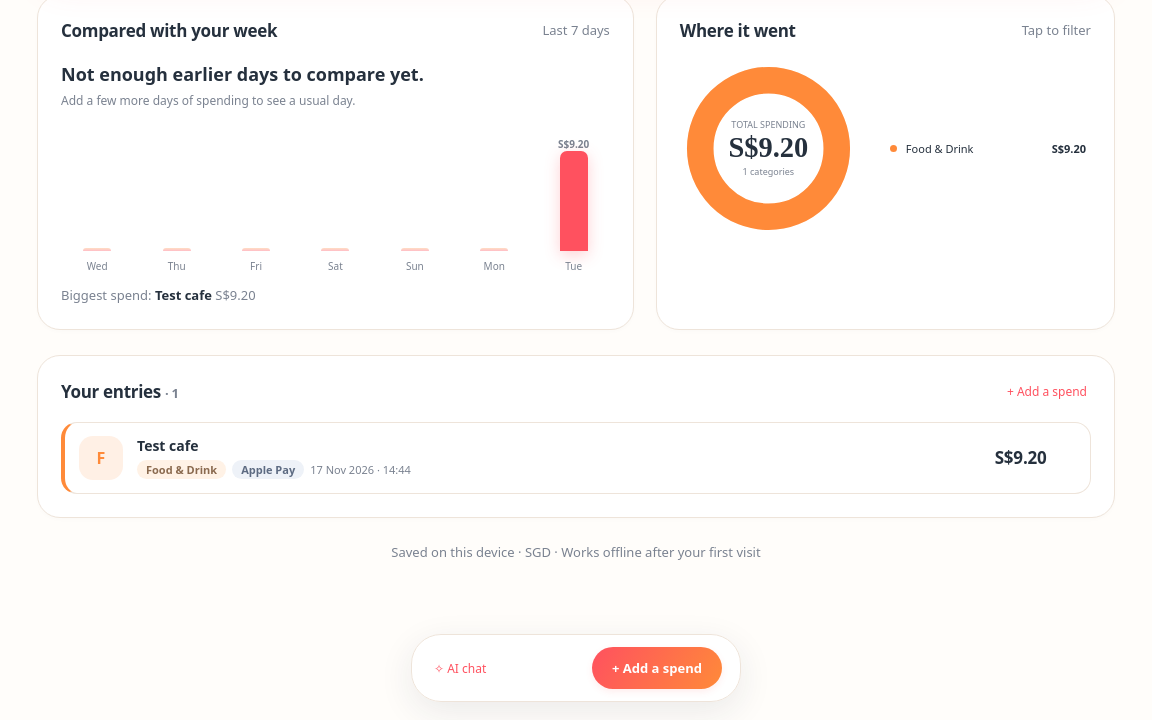
Test: manual tracker › keeps the form open when storage fails
The width and height of the screenshot is (1152, 720).
(page scrolled)
Click the button with aria-label "Edit Test cafe": (101, 458) left=61, top=422, right=1091, bottom=494
(page scrolled)
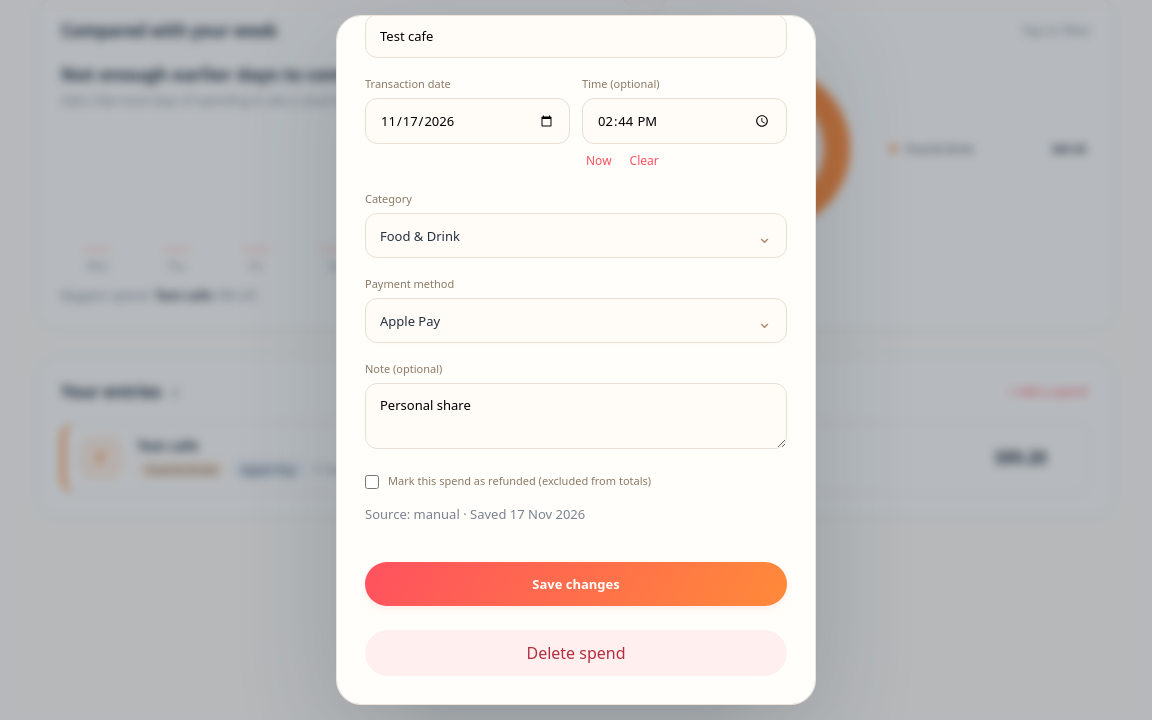
Click the button "Save changes": (576, 584) left=365, top=562, right=787, bottom=606
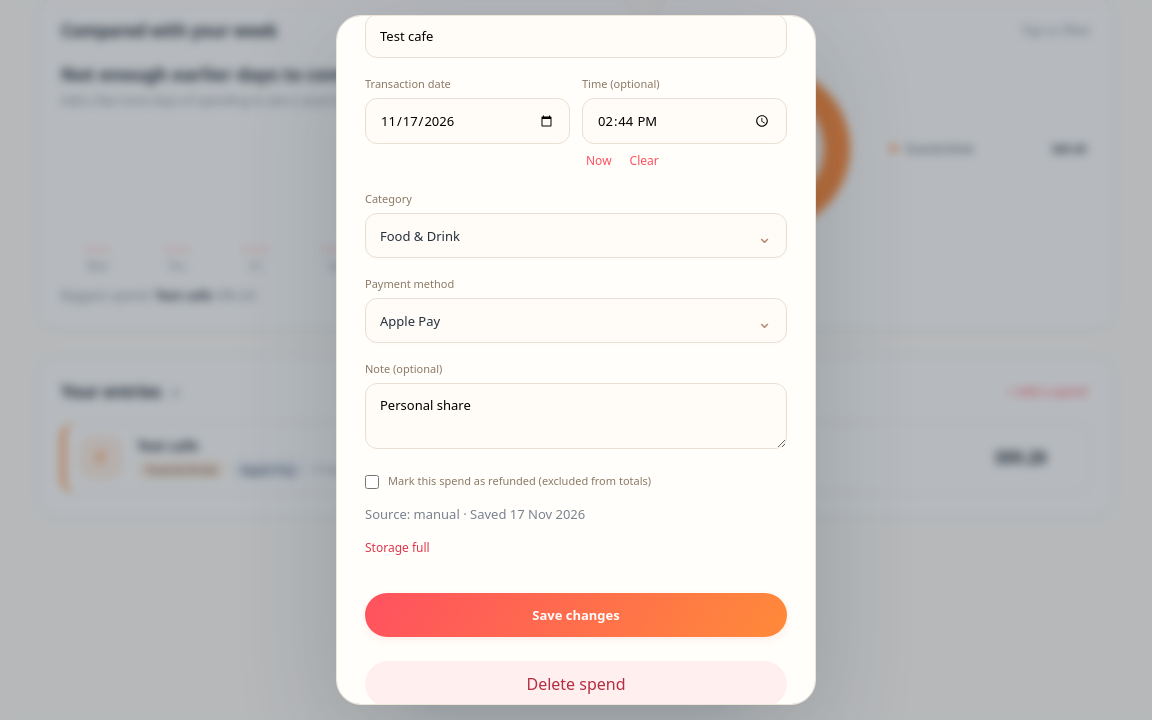
expect the dialog is shown: met, box left=336, top=15, right=816, bottom=705
expect the message reads "Storage full": met, box left=365, top=539, right=430, bottom=556
